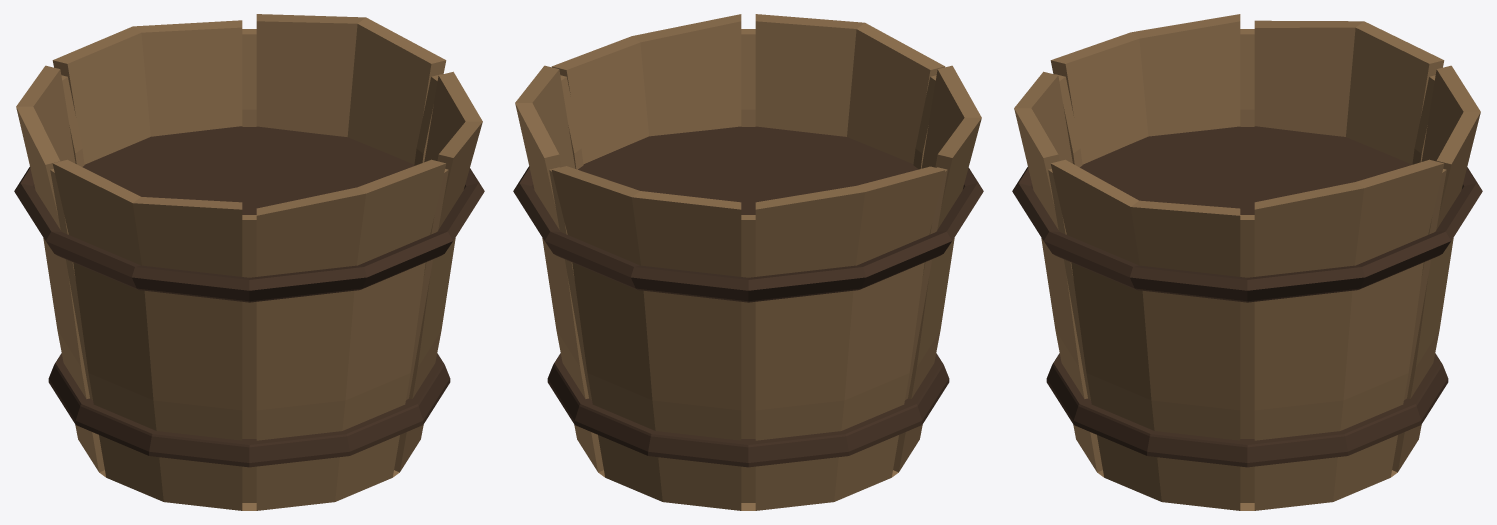
File: Bucket_4.fbx
3 renders of one model, left to right at view 1: azimuth 30°, elevation 25°; view 2: azimuth 150°, elevation 25°; view 3: azimuth 270°, elevation 25°, orthographic.
Parts seen in each view (by area): view 1: Cylinder.037, Cylinder.039, Cylinder.038; view 2: Cylinder.037, Cylinder.039, Cylinder.038; view 3: Cylinder.037, Cylinder.039, Cylinder.038.
Boxes of the visible parts, box(x1,y1,x2,y2) form: Cylinder.037: box(16, 14, 482, 510); Cylinder.039: box(14, 126, 484, 302); Cylinder.038: box(48, 353, 450, 467); Cylinder.037: box(515, 14, 981, 510); Cylinder.039: box(513, 126, 983, 302); Cylinder.038: box(547, 353, 949, 467); Cylinder.037: box(1014, 14, 1480, 510); Cylinder.039: box(1012, 126, 1482, 302); Cylinder.038: box(1046, 353, 1448, 467).
Bounding box in the file's own units: 261 × 205 × 261.
